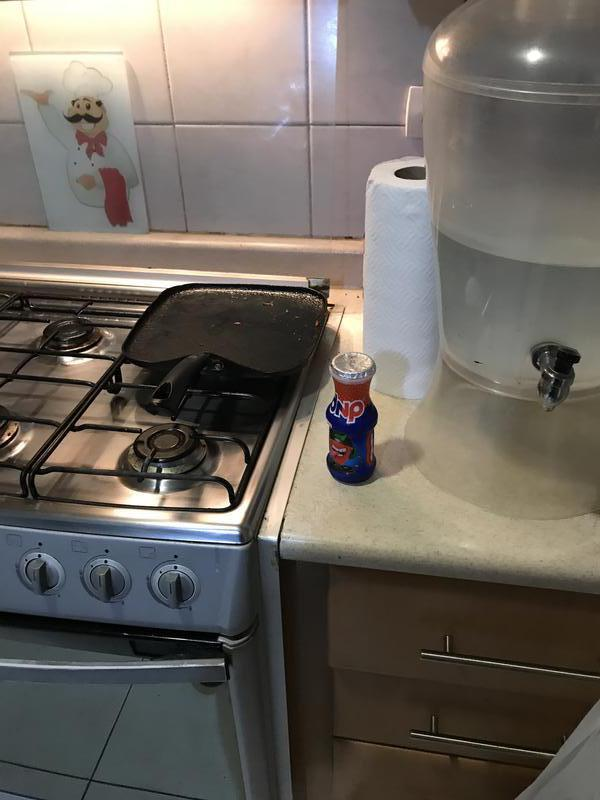danup: (325, 352, 380, 485)
